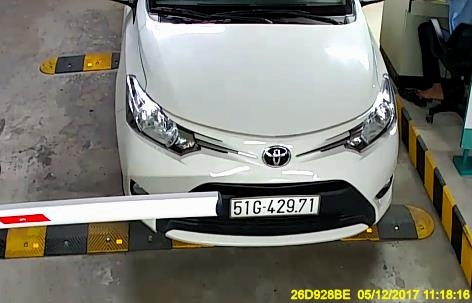plate: (230, 190, 322, 222)
